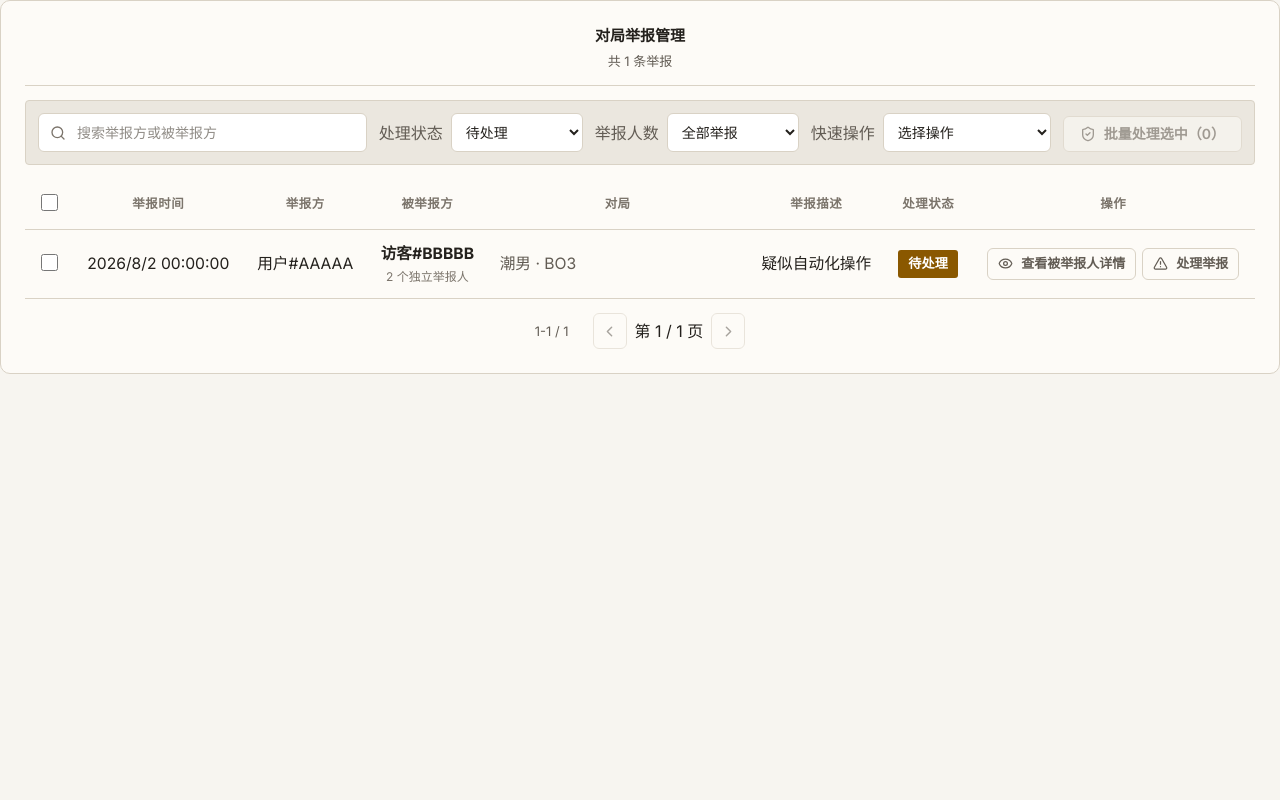
Test: AdminReports › opens the existing user detail dialog for the reported identity
Expected: the text "疑似自动化操作" is shown, [748,229,885,299]
Click the button "查看被举报人详情". click: (1062, 264)
box: [987,248,1136,280]
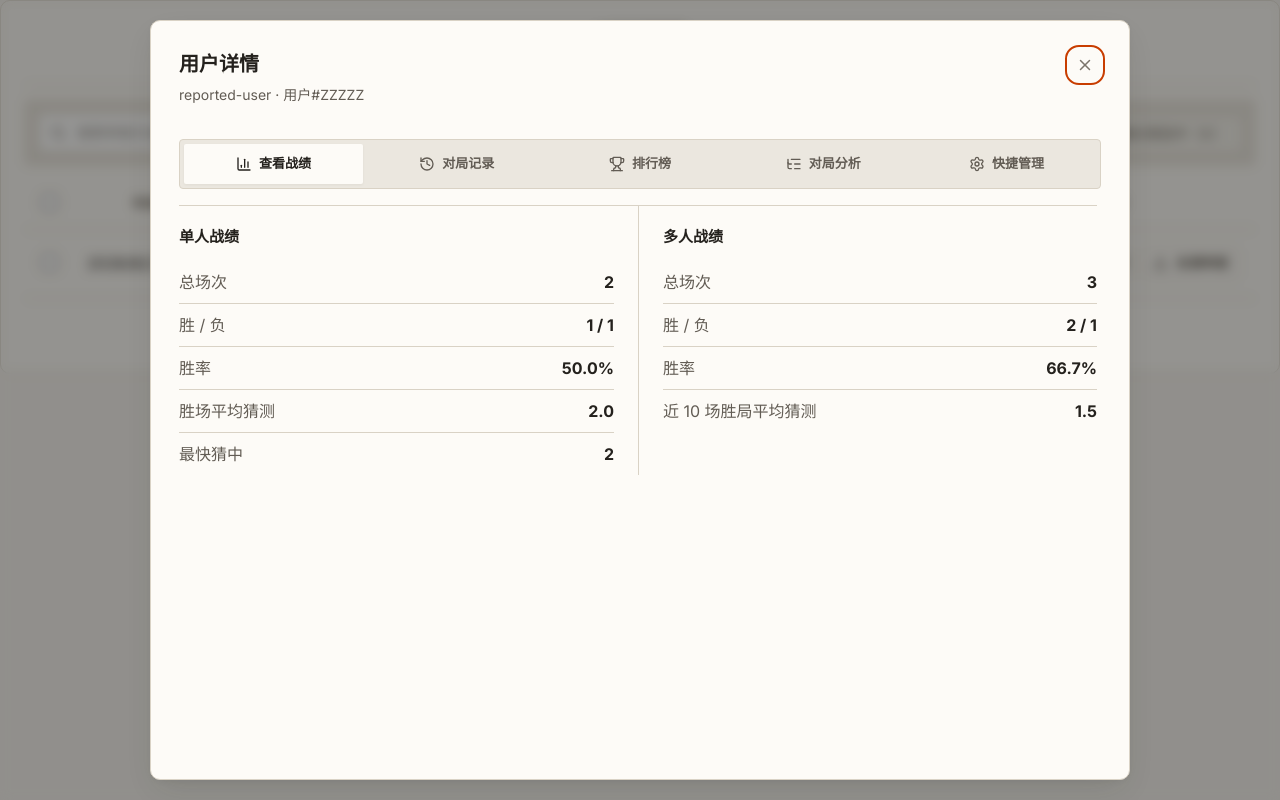
Now the dialog "用户详情" is shown
Now the tab "对局记录" is shown, box [367,144,546,184]
